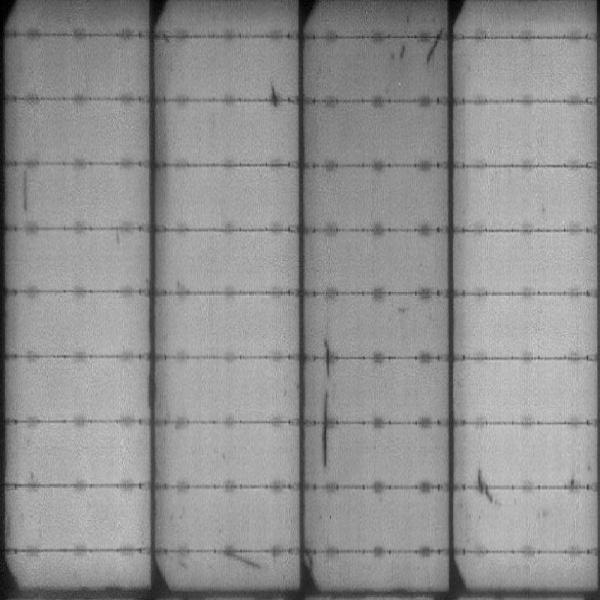scratch: (321, 336, 332, 472), (216, 546, 266, 574), (475, 468, 505, 507), (421, 23, 443, 66), (20, 171, 34, 212), (266, 84, 282, 111)
